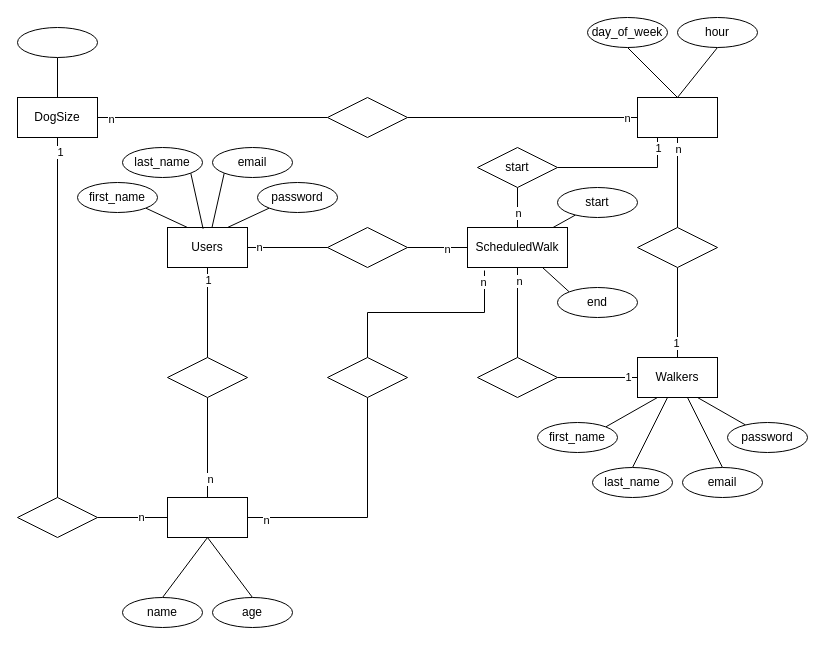
This 825x645 diagram has some shape labels left out. Here are the shapes that lost their labels. From the top down, the box of each, then its label:
(16, 26, 98, 58): size
(326, 96, 408, 138): bind
(636, 96, 718, 138): Schedules
(326, 226, 408, 268): schedule
(636, 226, 718, 268): establish
(166, 356, 248, 398): own
(326, 356, 408, 398): involve
(476, 356, 558, 398): do
(16, 496, 98, 538): are
(166, 496, 248, 538): Dogs
